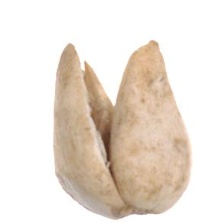L1: (66, 37, 148, 115), (111, 203, 165, 219)
L2: (53, 40, 192, 219)
